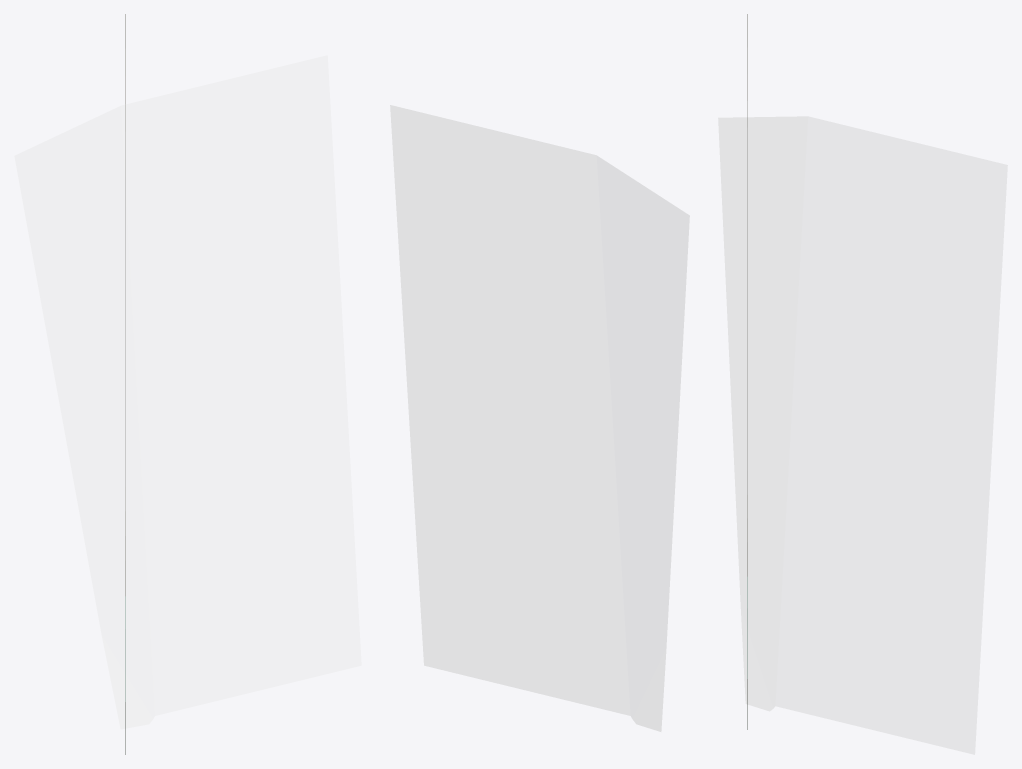
3 views of the same model, side by side, from view 1: azimuth 30°, elevation 25°; view 2: azimuth 150°, elevation 25°; view 3: azimuth 330°, elevation 25° (orthographic). The views are drawn at different scales.
Size of the model in its own units: 1.3 by 3 by 0.299.
Materials: 2 (2 with a texture image).
